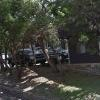Tree: (18, 1, 100, 56)
